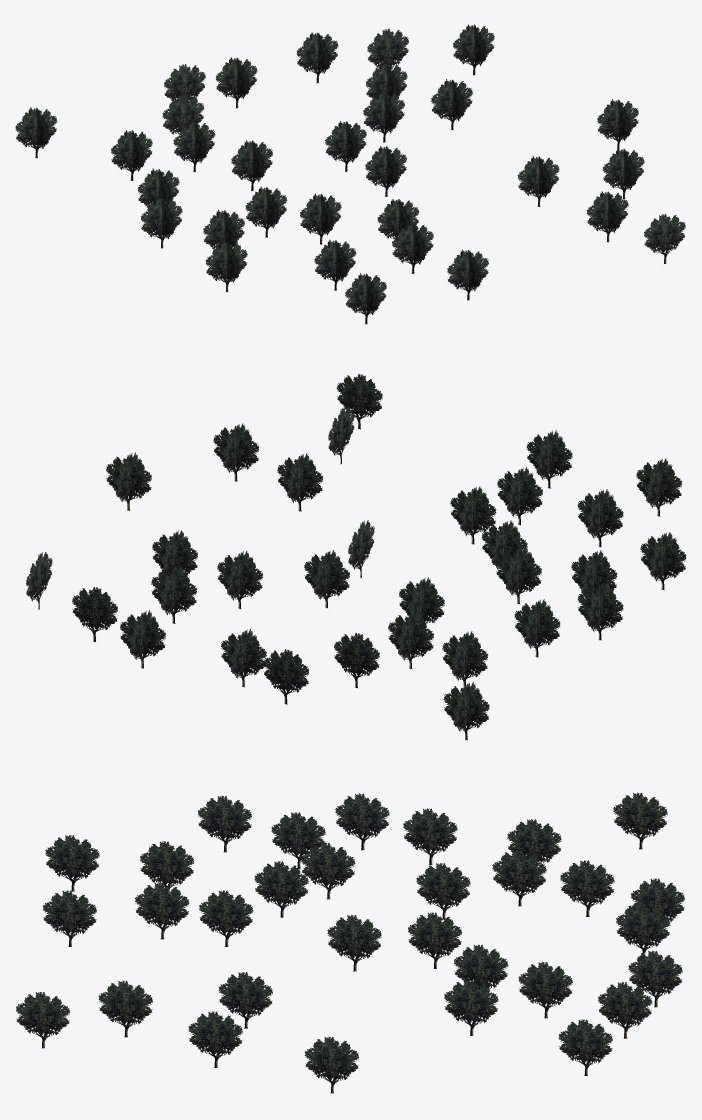
Rendered from planeTree28.FBX.
3 renders of one model, top to bottom at view 1: azimuth 30°, elevation 25°; view 2: azimuth 150°, elevation 25°; view 3: azimuth 270°, elevation 25°, orthographic. The views are drawn at different scales.
Parts seen in each view (by area): view 1: planeTree28; view 2: planeTree28; view 3: planeTree28.
Part boxes in pixels (x1=…): planeTree28: x1=15, y1=24, x2=685, y2=324; planeTree28: x1=26, y1=374, x2=686, y2=740; planeTree28: x1=16, y1=792, x2=684, y2=1093.
Bounding box in the file's own units: 4403 × 441 × 4663.
